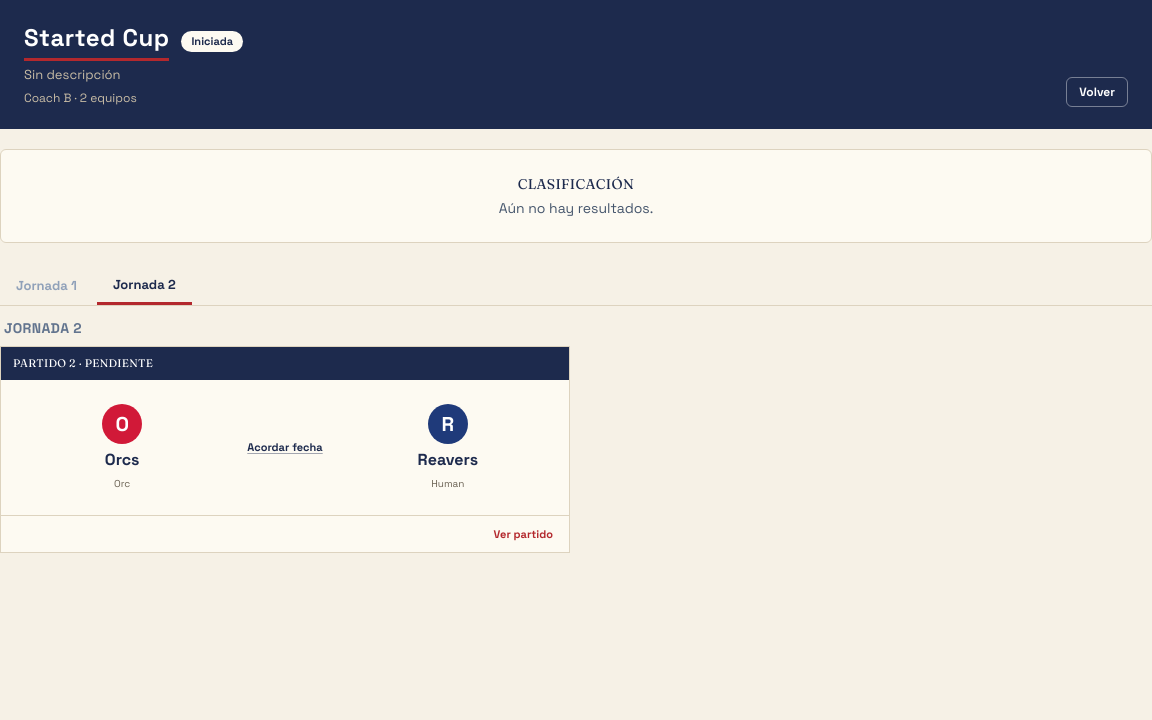
LeagueDetail — STARTED league › keeps the viewed round when a refresh completes it (one-shot initializer)
The image size is (1152, 720).
Click the button "Acordar fecha" at (285, 447), box [239,435,331,459]
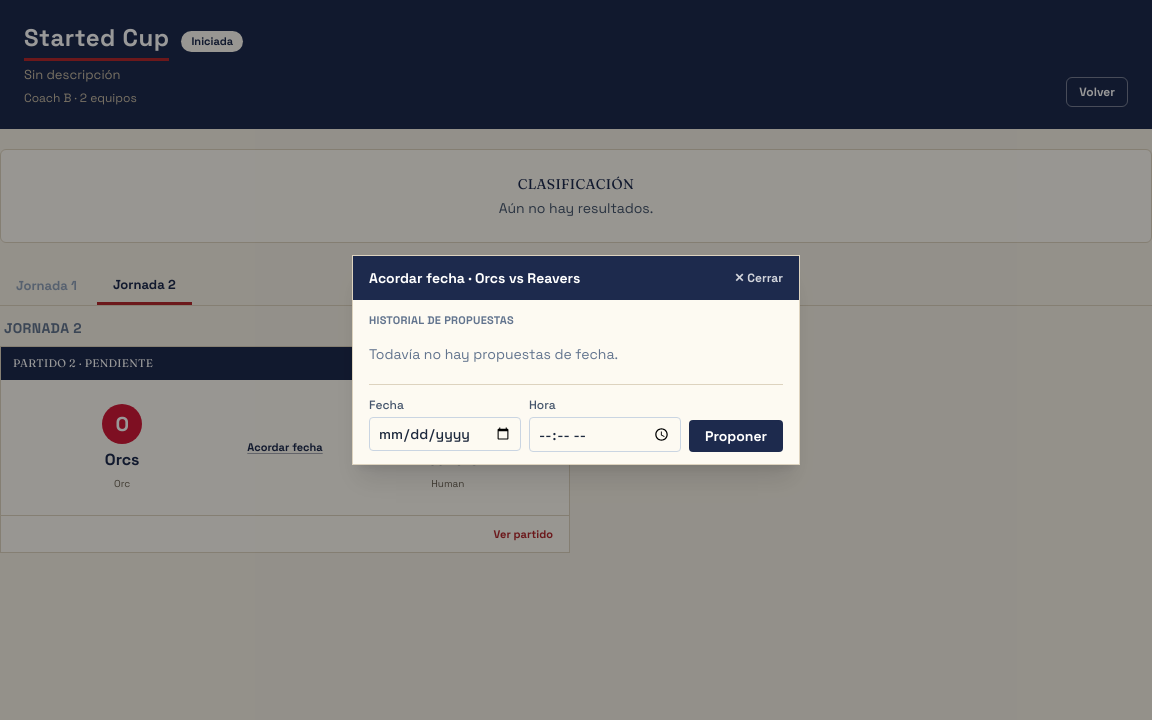
Type "2026-03-05" into the date field named "Fecha propuesta" at (445, 434), box [369,417,521,451]
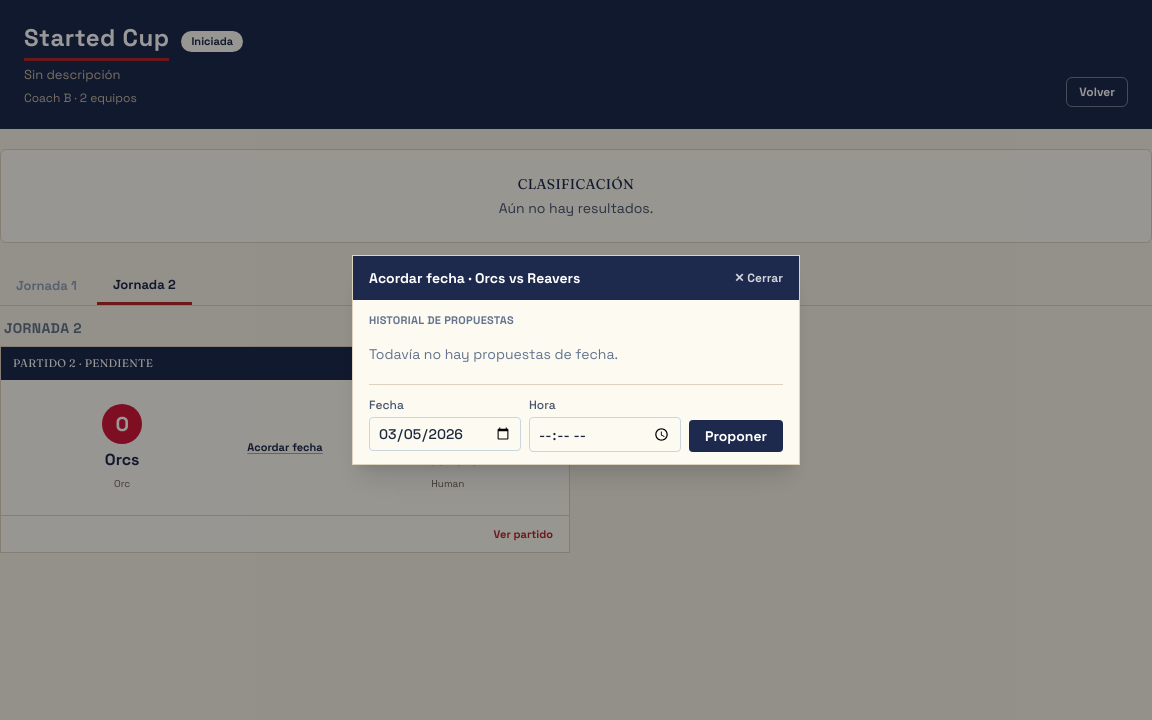
Type "19:00" into the time field named "Hora propuesta" at (605, 435), box [529,417,681,452]
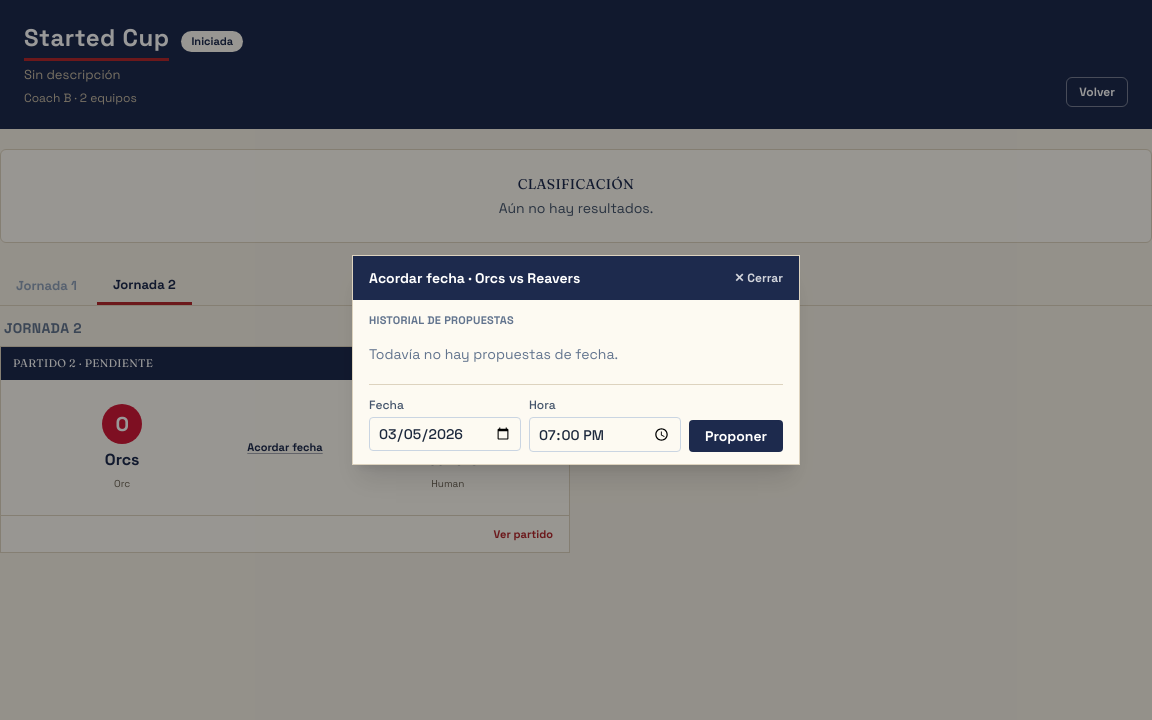
Click the button "Proponer" at (736, 436), box [689,420,783,452]
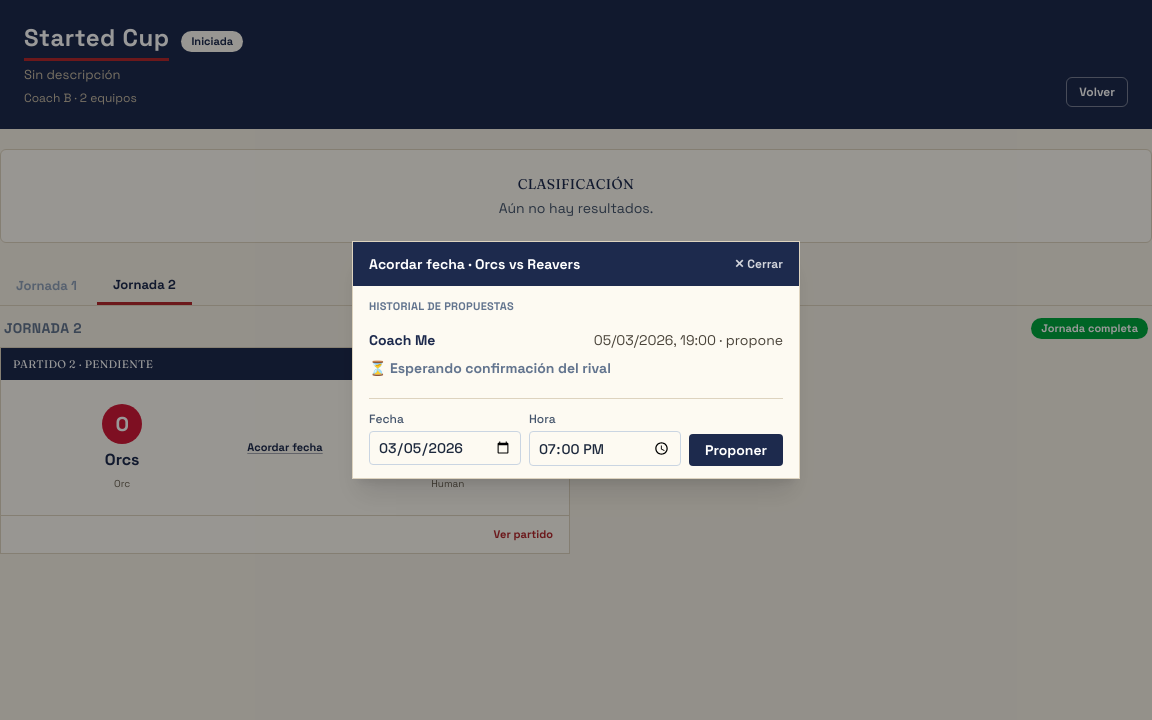
Now the dialog "Acordar fecha" is shown
Now the text "⏳ Esperando confirmación del rival" is shown, box [369,358,611,378]
